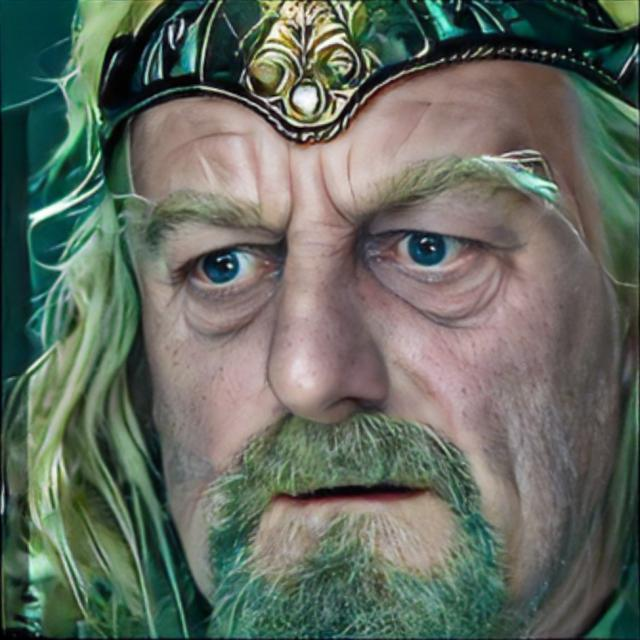anger: (136, 41, 588, 626)
